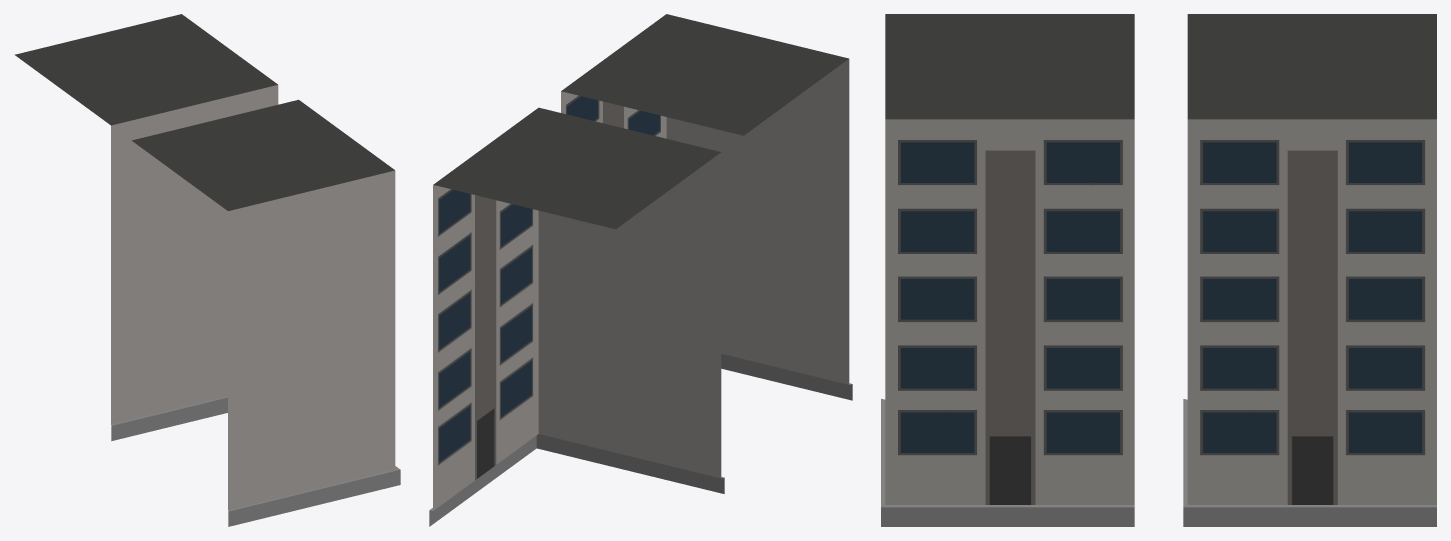
The model's file is Building3.fbx.
The picture shows the model from 3 angles, left to right: view 1: azimuth 30°, elevation 25°; view 2: azimuth 150°, elevation 25°; view 3: azimuth 270°, elevation 25°; orthographic projection. The views are drawn at different scales.
Visible parts, largest first — view 1: pasted__pCube5, pasted__pasted__pCube5; view 2: pasted__pasted__pCube5, pasted__pCube5; view 3: pasted__pCube5, pasted__pasted__pCube5.
Boxes of the visible parts, x1,y1,x2,y2 form: pasted__pCube5: (132, 99, 400, 526); pasted__pasted__pCube5: (14, 14, 278, 441); pasted__pasted__pCube5: (429, 107, 724, 526); pasted__pCube5: (561, 14, 852, 400); pasted__pCube5: (881, 14, 1134, 526); pasted__pasted__pCube5: (1183, 14, 1436, 526).
Size of the model in its own units: 7.24 by 12.63 by 15.69.
